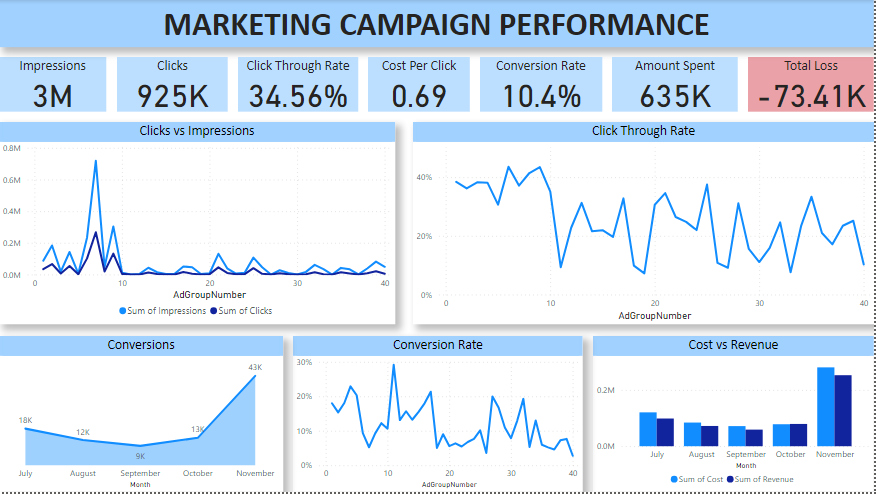

Layout of this report page (visuals, bound fields, positions):
{"tool":"powerbi","page":{"name":"Overview","canvas":[1280,720],"ordinal":0},"visuals":[{"type":"lineChart","title":"Clicks vs Impressions","fields":{"Category":["final_shop_6modata.AdGroupNumber"],"Y":["Sum(final_shop_6modata.Impressions)","Sum(final_shop_6modata.Clicks)"]},"box":[0,178.5,579.5,295.6],"z":0},{"type":"clusteredColumnChart","title":"Cost vs Revenue","fields":{"Y":["Sum(final_shop_6modata.Cost)","Sum(final_shop_6modata.Revenue)"],"Category":["final_shop_6modata.NewDateColumn.Variation.Date Hierarchy.Month"]},"box":[869.3,491.7,411.2,228.3],"z":1000},{"type":"lineChart","title":"Click Through Rate","fields":{"Y":["final_shop_6modata.Overall CTR"],"Category":["final_shop_6modata.AdGroupNumber"]},"box":[605.9,178.5,674.6,295.6],"z":2000},{"type":"lineChart","title":"Conversion Rate","fields":{"Y":["final_shop_6modata.ConversionRate"],"Category":["final_shop_6modata.AdGroupNumber"]},"box":[430.2,491.7,424.4,228.3],"z":3000},{"type":"areaChart","title":"Conversions ","fields":{"Category":["final_shop_6modata.NewDateColumn.Variation.Date Hierarchy.Month"],"Y":["Sum(final_shop_6modata.Conversions)"]},"box":[0,491.7,415.6,228.3],"z":4000},{"type":"card","title":"Impressions","fields":{"Values":["Sum(final_shop_6modata.Impressions)"]},"box":[0,83.4,156.6,80.5],"z":5000},{"type":"textbox","box":[0,0,1280.5,68.8],"z":6000},{"type":"card","title":"Clicks","fields":{"Values":["Sum(final_shop_6modata.Clicks)"]},"box":[172.7,83.4,162.4,80.5],"z":7000},{"type":"card","title":"Click Through Rate","fields":{"Values":["final_shop_6modata.Overall CTR"]},"box":[349.8,83.4,175.6,80.5],"z":8000},{"type":"card","title":"Cost Per Click","fields":{"Values":["final_shop_6modata.Overall CPC"]},"box":[540,83.4,149.3,80.5],"z":9000},{"type":"card","title":"Conversion Rate","fields":{"Values":["final_shop_6modata.ConversionRate"]},"box":[703.9,83.4,178.5,80.5],"z":10000},{"type":"card","title":"Amount Spent","fields":{"Values":["Sum(final_shop_6modata.Cost)"]},"box":[897.1,83.4,184.4,80.5],"z":11000},{"type":"card","title":"Total Loss","fields":{"Values":["Sum(final_shop_6modata.P&L)"]},"box":[1096.1,83.4,184.4,80.5],"z":12000}]}

Visuals, with their boxes in screenshot pixels (x1, y1, x2, y2), scaled from the page's 1280x720 canvas onto the 876x495 screenshot:
"Clicks vs Impressions" lineChart: 0 123 397 326
"Cost vs Revenue" clusteredColumnChart: 595 338 875 494
"Click Through Rate" lineChart: 415 123 875 326
"Conversion Rate" lineChart: 294 338 585 494
"Conversions " areaChart: 0 338 284 494
"Impressions" card: 0 57 107 113
textbox: 0 0 875 47
"Clicks" card: 118 57 229 113
"Click Through Rate" card: 239 57 360 113
"Cost Per Click" card: 370 57 472 113
"Conversion Rate" card: 482 57 604 113
"Amount Spent" card: 614 57 740 113
"Total Loss" card: 750 57 875 113
